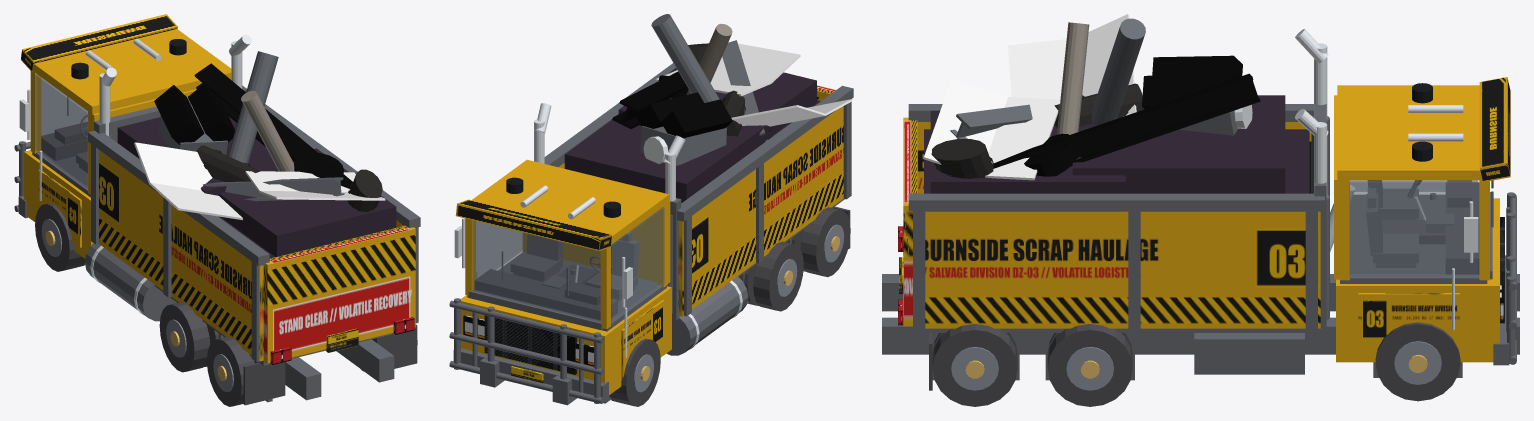
File: scrap_hauler.glb
3 renders of one model, left to right at view 1: azimuth 30°, elevation 25°; view 2: azimuth 150°, elevation 25°; view 3: azimuth 270°, elevation 25°, orthographic. The views are drawn at different scales.
Visible parts, largest first — view 1: ScrapHauler_Mesh; view 2: ScrapHauler_Mesh; view 3: ScrapHauler_Mesh.
Part boxes in pixels (left/top/right/bottom): ScrapHauler_Mesh: left=14, top=14, right=420, bottom=406; ScrapHauler_Mesh: left=449, top=14, right=853, bottom=406; ScrapHauler_Mesh: left=882, top=14, right=1519, bottom=406.
Bounding box in the file's own units: 3.38 × 4.28 × 7.2.
Materials: 14 (6 with a texture image).
